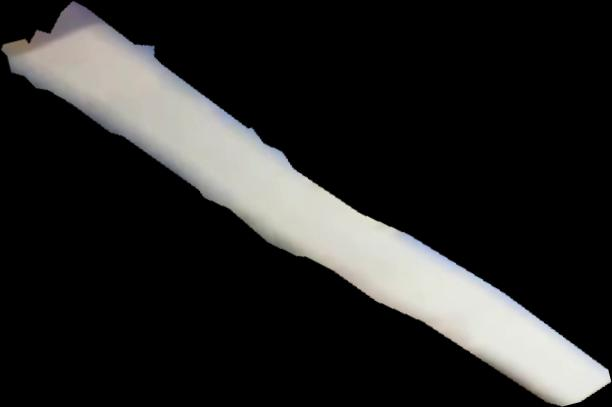backward: (1, 1, 612, 407)
